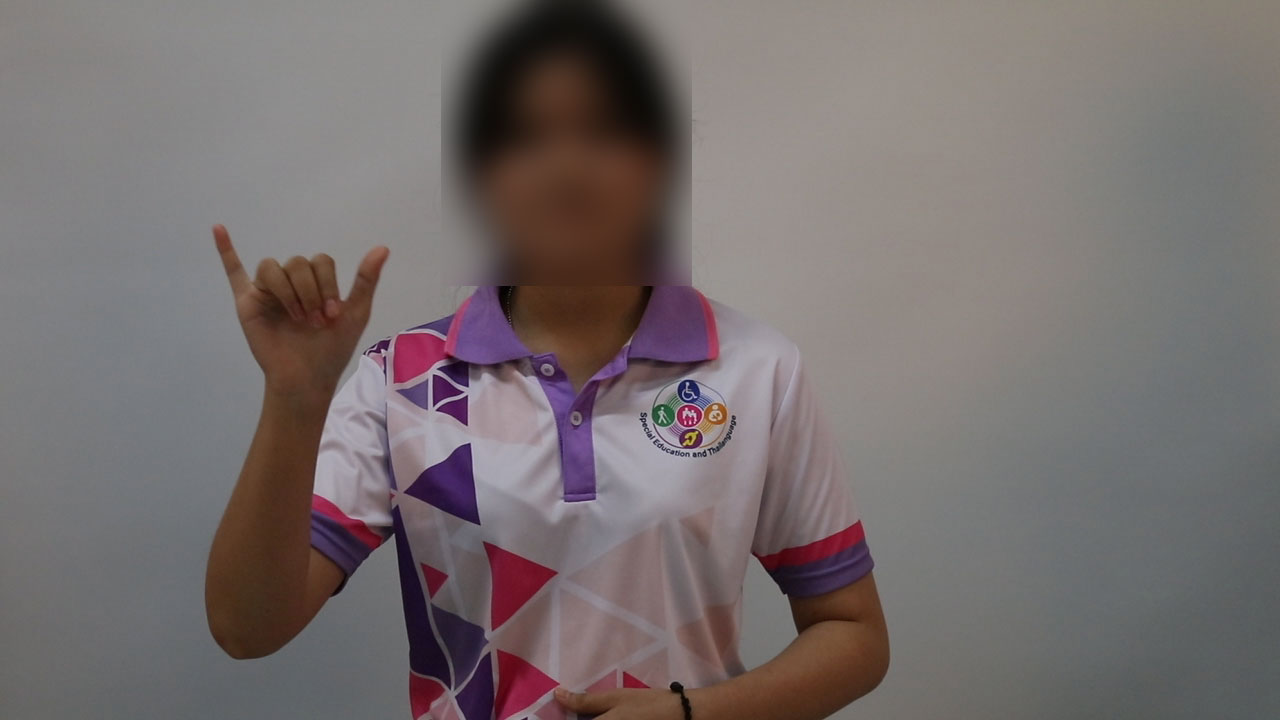yor: (187, 213, 408, 421)
